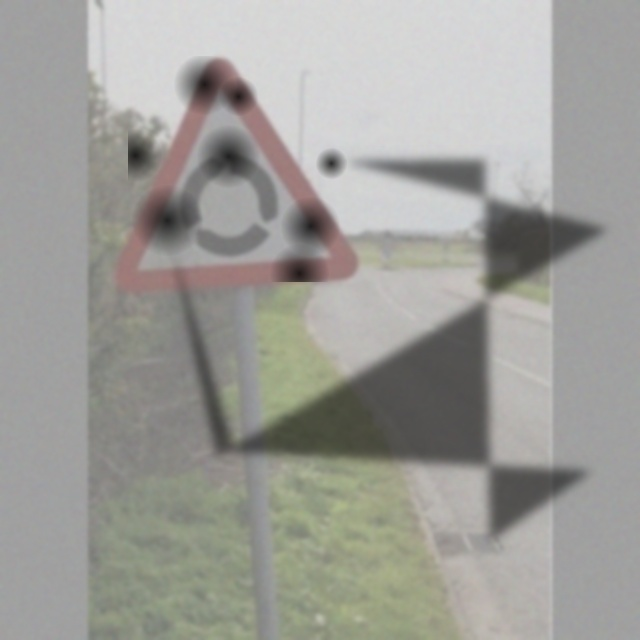Round_About: (128, 56, 354, 282)
